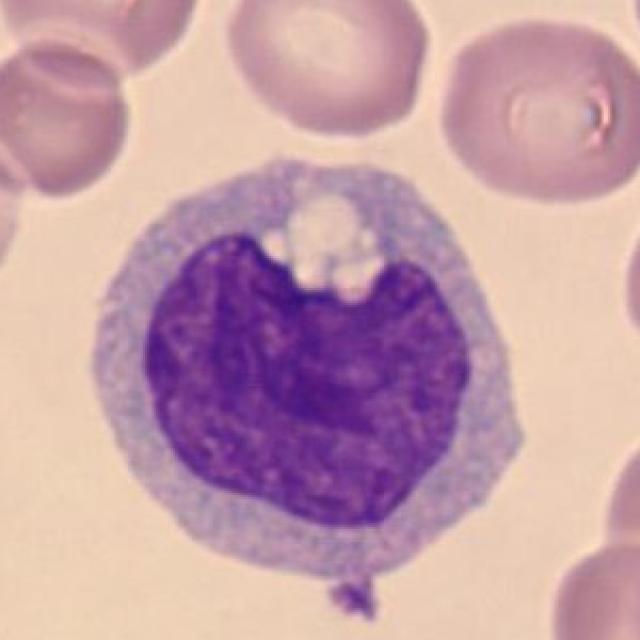White Blood Cell: (95, 161, 519, 613)
